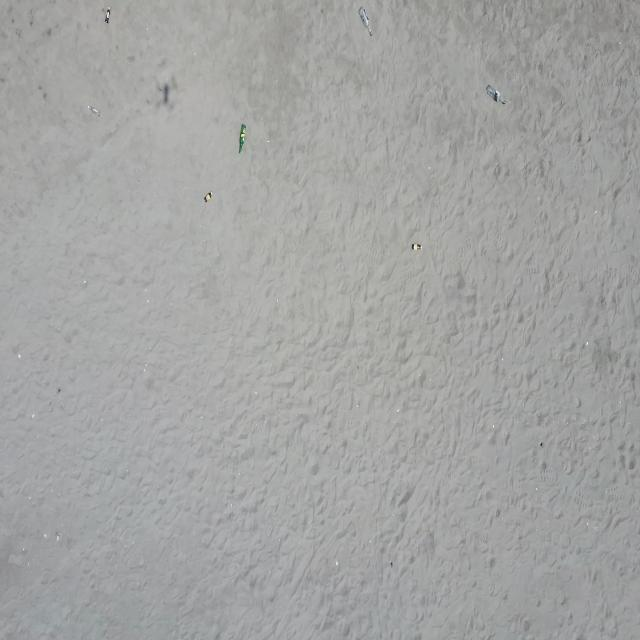glass: (358, 6, 372, 36), (486, 84, 505, 106), (239, 123, 246, 153), (87, 105, 101, 117), (204, 192, 213, 203), (105, 7, 110, 23), (412, 244, 422, 250)
